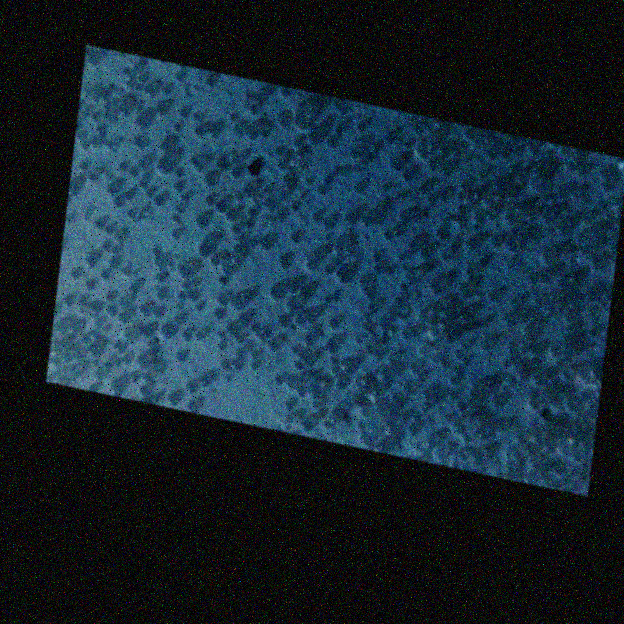GrassBeadSeg: (365, 417, 381, 435), (135, 115, 150, 131), (157, 158, 172, 174), (307, 129, 321, 146), (336, 267, 350, 283), (220, 259, 234, 275), (307, 383, 321, 399), (229, 294, 243, 310), (285, 299, 299, 313), (178, 265, 192, 279), (556, 439, 570, 453), (452, 418, 465, 433), (123, 329, 136, 344), (458, 284, 471, 298), (504, 238, 518, 251), (429, 280, 442, 294), (269, 286, 282, 300), (161, 324, 173, 339), (110, 381, 122, 396), (530, 429, 543, 442), (417, 311, 429, 325), (502, 313, 514, 327), (245, 126, 257, 140), (295, 115, 307, 129), (418, 346, 430, 360), (385, 420, 397, 433), (214, 200, 226, 213), (543, 303, 555, 316), (416, 144, 428, 157), (471, 451, 483, 464), (243, 185, 255, 198), (264, 198, 276, 211), (360, 214, 372, 227), (434, 447, 446, 460), (435, 228, 448, 240), (136, 355, 148, 368), (549, 344, 561, 357), (440, 307, 452, 320), (471, 136, 483, 149), (377, 440, 389, 453), (389, 159, 401, 171), (556, 280, 568, 292), (225, 324, 237, 336), (456, 204, 468, 216), (325, 340, 336, 353), (484, 196, 495, 209), (344, 212, 355, 225), (503, 212, 514, 225), (300, 286, 311, 299), (459, 308, 470, 321), (439, 164, 450, 177), (525, 472, 536, 485), (278, 256, 289, 269), (87, 54, 98, 67), (141, 325, 152, 338), (405, 272, 416, 284), (465, 267, 476, 279), (465, 238, 476, 250), (259, 238, 270, 250), (267, 339, 278, 351), (491, 396, 502, 408), (195, 216, 206, 228), (380, 368, 391, 380), (523, 325, 534, 337), (333, 242, 344, 254), (237, 314, 248, 326), (407, 240, 418, 252), (155, 104, 166, 116), (399, 211, 410, 223), (360, 433, 371, 445), (479, 339, 490, 351), (540, 212, 551, 224), (409, 408, 420, 420), (144, 85, 155, 97), (278, 117, 289, 129), (331, 366, 342, 378), (216, 160, 227, 172), (372, 384, 383, 396), (287, 281, 298, 293), (119, 104, 130, 116), (465, 194, 476, 206), (497, 148, 508, 160), (529, 178, 540, 190), (207, 126, 218, 138), (113, 341, 124, 353), (285, 377, 296, 389), (322, 219, 333, 230), (167, 394, 178, 405), (203, 175, 214, 186), (537, 272, 548, 283), (556, 223, 567, 234), (438, 191, 449, 202), (590, 258, 601, 269), (530, 344, 541, 355), (88, 345, 99, 356), (542, 440, 553, 451), (133, 138, 144, 149), (55, 324, 66, 335), (70, 366, 81, 377), (198, 245, 208, 257), (477, 428, 487, 440), (541, 252, 551, 264), (301, 419, 311, 431), (138, 159, 148, 171), (216, 294, 226, 306), (456, 400, 466, 412), (233, 125, 243, 137), (155, 258, 165, 270), (374, 401, 384, 413), (584, 289, 594, 301), (61, 350, 71, 362), (85, 255, 94, 268), (407, 424, 417, 435), (290, 233, 300, 244), (420, 248, 430, 259), (401, 171, 411, 182), (277, 316, 287, 327), (429, 326, 439, 337), (426, 436, 436, 447), (140, 306, 150, 317), (439, 145, 449, 156), (199, 375, 209, 386), (385, 404, 395, 415), (384, 134, 394, 145), (581, 248, 591, 259), (160, 143, 170, 154), (532, 374, 542, 385), (505, 188, 515, 199), (253, 94, 263, 105), (450, 147, 460, 158), (564, 160, 574, 171), (485, 149, 495, 160), (94, 370, 104, 381), (73, 352, 83, 363), (186, 381, 195, 393), (187, 401, 196, 413), (505, 462, 514, 474), (276, 210, 285, 222), (490, 237, 500, 247), (230, 168, 240, 178), (153, 197, 163, 207), (305, 261, 315, 271), (231, 361, 241, 371), (528, 399, 538, 409), (104, 113, 114, 123), (556, 189, 566, 199), (279, 87, 289, 97), (293, 316, 303, 326), (226, 210, 235, 221), (487, 291, 496, 302), (427, 161, 436, 172), (247, 208, 256, 219), (176, 352, 185, 363), (107, 185, 116, 196), (118, 312, 127, 323), (525, 444, 534, 455), (571, 451, 580, 462), (495, 180, 504, 191), (303, 336, 312, 347), (601, 181, 610, 192), (533, 166, 542, 177), (573, 425, 582, 436), (548, 289, 557, 300), (581, 373, 590, 384), (409, 364, 418, 374), (419, 184, 428, 194), (394, 296, 403, 306), (403, 384, 412, 394), (328, 319, 337, 329), (509, 299, 518, 309), (382, 231, 391, 241), (155, 273, 164, 283), (218, 275, 227, 285), (173, 182, 182, 192), (421, 389, 430, 399), (209, 256, 218, 266), (63, 297, 72, 307), (517, 313, 526, 323), (194, 127, 203, 137), (323, 265, 332, 275), (353, 184, 362, 194), (565, 401, 574, 411), (326, 138, 335, 148), (515, 435, 525, 444), (392, 226, 401, 236), (456, 450, 465, 460), (533, 298, 542, 308), (95, 125, 104, 135), (412, 124, 421, 134), (128, 284, 137, 294), (118, 299, 127, 309), (142, 373, 151, 383), (506, 343, 515, 353), (205, 77, 214, 87), (303, 357, 313, 366), (567, 298, 576, 308), (349, 149, 358, 159), (194, 162, 203, 172), (98, 91, 107, 101), (180, 193, 189, 203), (528, 313, 537, 323), (517, 339, 526, 349), (354, 381, 363, 391), (313, 306, 322, 316), (305, 313, 314, 323), (244, 291, 253, 301), (277, 160, 285, 171), (213, 310, 222, 319), (217, 341, 226, 350), (113, 198, 122, 207), (371, 143, 380, 152), (247, 239, 256, 248), (448, 243, 457, 252), (188, 292, 197, 301), (282, 175, 291, 184), (81, 335, 90, 344), (495, 423, 504, 432), (431, 393, 440, 402), (411, 213, 420, 222), (101, 361, 110, 370), (329, 414, 338, 423), (575, 168, 584, 177), (485, 211, 494, 220), (597, 171, 606, 180), (606, 230, 615, 239), (259, 130, 268, 139), (105, 293, 114, 302), (310, 326, 319, 335), (100, 270, 108, 280), (174, 204, 182, 214), (335, 380, 343, 390), (427, 195, 435, 205), (139, 385, 147, 395), (109, 259, 117, 269), (130, 373, 138, 383), (365, 344, 373, 354), (107, 306, 115, 316), (374, 351, 382, 361), (182, 331, 190, 341), (179, 109, 187, 119), (174, 72, 182, 82), (152, 308, 160, 318), (393, 365, 401, 375), (317, 408, 325, 418), (297, 387, 305, 397), (297, 376, 305, 386), (309, 370, 317, 380), (378, 320, 386, 330), (284, 400, 292, 409), (171, 231, 179, 240), (462, 434, 470, 443), (274, 376, 282, 385), (129, 168, 137, 177), (441, 252, 449, 261), (220, 361, 228, 370), (474, 213, 482, 222), (367, 304, 375, 313), (317, 187, 326, 195), (244, 220, 252, 229), (527, 274, 535, 283), (330, 257, 338, 266), (311, 400, 319, 409), (323, 175, 331, 184), (356, 123, 364, 132), (352, 164, 360, 173), (528, 458, 536, 467), (387, 355, 395, 364), (235, 349, 243, 358), (312, 213, 320, 222), (177, 293, 185, 302), (88, 173, 96, 182), (70, 270, 78, 279), (365, 153, 373, 162), (293, 138, 301, 147), (588, 328, 596, 337), (249, 106, 257, 115), (112, 359, 121, 367), (123, 192, 131, 201), (576, 234, 584, 243), (562, 371, 570, 380), (195, 331, 203, 340), (449, 376, 457, 385), (386, 308, 394, 317), (104, 227, 112, 236), (563, 313, 571, 322), (94, 221, 102, 230), (360, 408, 368, 417), (173, 315, 181, 324), (401, 330, 409, 339), (194, 114, 202, 123), (262, 329, 270, 338), (579, 391, 587, 400), (571, 190, 579, 199), (515, 171, 523, 180), (589, 227, 597, 236), (598, 201, 606, 210), (604, 210, 612, 219), (398, 191, 406, 200), (275, 147, 283, 156), (265, 87, 273, 96), (188, 158, 196, 167), (161, 87, 169, 96), (101, 242, 109, 251), (85, 281, 93, 290), (77, 296, 85, 305), (78, 318, 86, 327), (190, 278, 198, 287), (231, 157, 239, 166), (578, 437, 586, 446), (579, 462, 587, 471), (452, 366, 460, 375), (409, 328, 417, 337), (243, 342, 251, 351), (290, 203, 298, 211), (304, 178, 312, 186), (477, 171, 485, 179), (118, 164, 126, 172), (235, 336, 243, 344), (205, 197, 213, 205), (293, 362, 301, 370), (526, 213, 534, 221), (144, 190, 152, 198), (313, 252, 321, 260), (580, 215, 588, 223), (110, 247, 118, 255), (234, 193, 242, 201), (53, 372, 61, 380), (58, 340, 66, 348), (372, 253, 379, 262), (231, 225, 238, 234), (399, 283, 406, 292), (174, 169, 181, 178), (425, 263, 432, 272), (403, 141, 410, 150), (554, 359, 561, 368), (373, 217, 380, 226), (296, 149, 303, 158), (65, 215, 72, 224), (93, 319, 100, 328), (239, 151, 246, 160), (263, 186, 270, 195), (467, 400, 474, 409), (443, 329, 450, 338), (250, 362, 257, 370), (373, 266, 381, 273), (454, 350, 461, 358), (384, 267, 391, 275), (472, 224, 480, 231), (122, 356, 129, 364), (323, 295, 330, 303), (501, 360, 508, 368), (79, 164, 86, 172), (335, 126, 342, 134), (357, 422, 364, 430), (313, 351, 320, 359), (139, 180, 146, 188), (510, 226, 517, 234), (332, 294, 339, 302), (565, 326, 572, 334), (479, 258, 486, 266), (134, 84, 141, 92), (91, 114, 98, 122), (91, 95, 98, 103), (127, 210, 134, 218), (151, 247, 158, 255), (171, 215, 178, 223), (237, 235, 244, 243), (233, 245, 240, 253), (540, 476, 547, 484), (507, 379, 514, 387), (363, 383, 370, 391), (174, 124, 180, 133), (398, 253, 405, 260), (81, 144, 88, 151), (229, 115, 236, 122), (261, 221, 268, 228), (561, 477, 568, 484), (458, 184, 465, 191), (464, 154, 471, 161), (132, 107, 139, 114), (80, 111, 87, 118), (102, 104, 109, 111), (324, 245, 331, 252), (512, 451, 519, 458), (443, 415, 450, 422), (448, 392, 455, 399), (461, 357, 468, 364), (501, 386, 508, 393), (433, 347, 440, 354), (416, 374, 423, 381), (520, 365, 527, 372), (390, 395, 397, 402), (413, 443, 420, 450), (353, 357, 360, 364), (288, 324, 295, 331), (377, 338, 384, 345), (366, 294, 373, 301), (195, 303, 201, 311), (225, 374, 231, 382), (456, 193, 462, 201), (330, 356, 336, 364), (527, 145, 533, 153), (511, 149, 517, 157), (77, 133, 83, 141), (181, 282, 187, 290), (249, 324, 255, 332), (361, 286, 367, 294), (382, 184, 388, 191), (291, 346, 297, 353), (250, 352, 256, 359), (175, 303, 181, 310), (126, 81, 132, 88), (241, 102, 247, 109), (138, 76, 144, 83), (90, 141, 96, 148), (110, 102, 116, 109), (127, 72, 133, 79), (423, 402, 429, 409), (504, 447, 510, 454), (255, 332, 261, 339), (442, 300, 448, 307), (217, 332, 223, 339), (323, 422, 329, 428), (244, 93, 250, 99), (258, 87, 264, 93), (205, 156, 211, 162), (252, 198, 258, 204), (263, 213, 269, 219), (237, 217, 243, 223), (358, 138, 364, 144), (365, 327, 371, 333), (505, 453, 510, 460), (363, 313, 368, 320), (421, 326, 426, 333), (355, 337, 360, 343), (333, 169, 339, 174), (324, 235, 330, 240), (408, 118, 414, 123), (83, 216, 88, 221), (117, 238, 122, 243), (132, 272, 137, 277), (153, 285, 158, 290), (156, 296, 161, 301), (91, 361, 96, 366), (159, 359, 164, 364), (227, 341, 232, 346), (210, 376, 215, 381), (152, 396, 157, 401), (159, 364, 164, 369), (101, 328, 106, 333), (91, 335, 96, 340), (80, 208, 85, 213), (371, 334, 376, 339), (373, 370, 378, 375), (156, 369, 161, 373), (401, 264, 405, 269), (88, 313, 92, 317), (123, 271, 127, 275), (119, 268, 123, 272), (85, 318, 89, 321), (109, 341, 112, 344)
